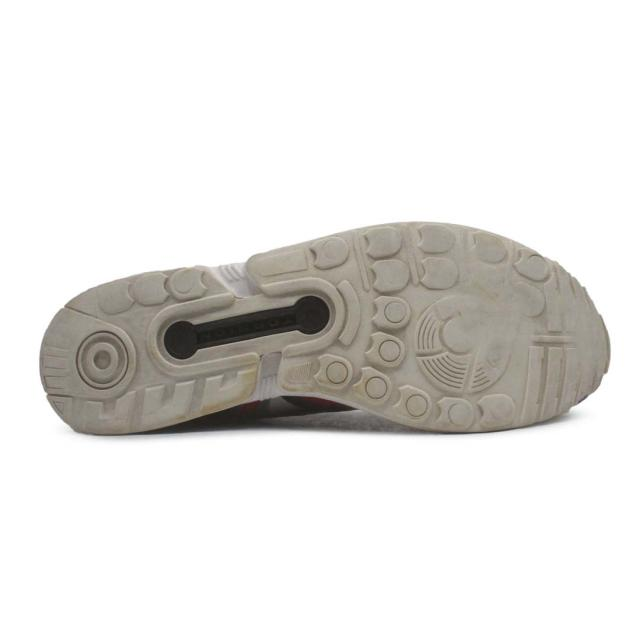outersole: (39, 223, 609, 434)
